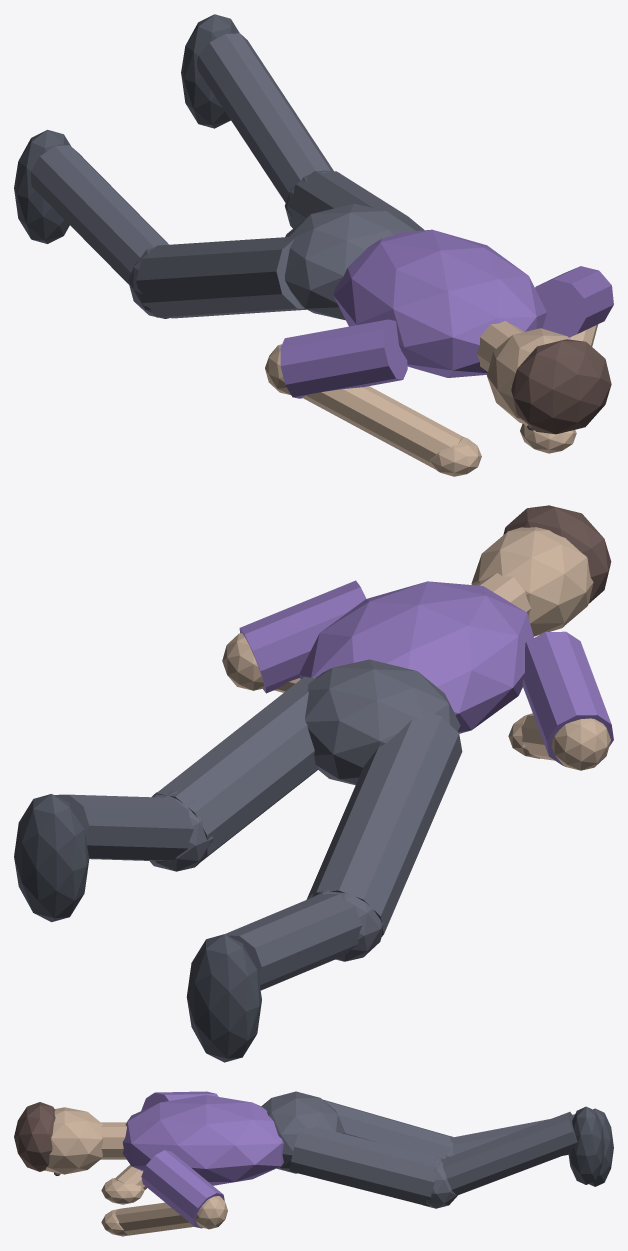
The picture shows the model from 3 angles, top to bottom: view 1: azimuth 30°, elevation 25°; view 2: azimuth 150°, elevation 25°; view 3: azimuth 270°, elevation 25°; orthographic projection. The views are drawn at different scales.
Visible parts, largest first — view 1: world; view 2: world; view 3: world.
Part boxes in pixels (box(x1,y1,x2,y2)): world: box(14, 14, 613, 476); world: box(14, 505, 613, 1062); world: box(14, 1091, 613, 1236).
Bounding box in the file's own units: 0.93 × 0.5125 × 2.07.
